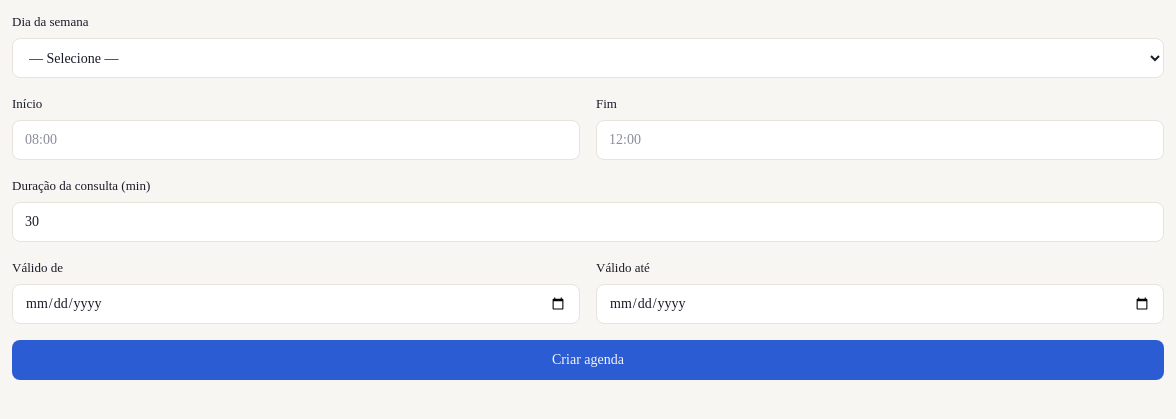
ScheduleForm — create mode › shows validation error when endTime is before startTime
Select "Segunda-feira" in the dropdown with test id "schedule-form-day" at (588, 58), box [12,38,1164,78]
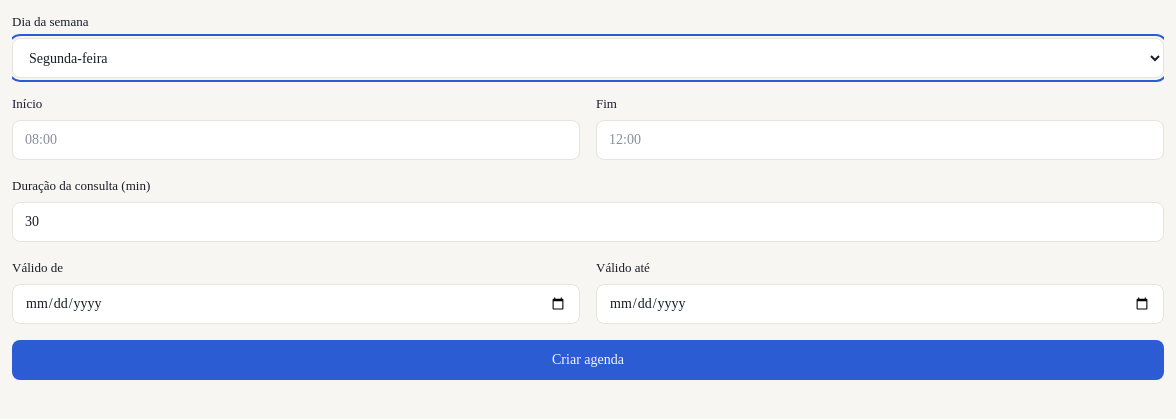
Type "12:00" into the field with test id "schedule-form-start-time" at (296, 140), box [12,120,580,160]
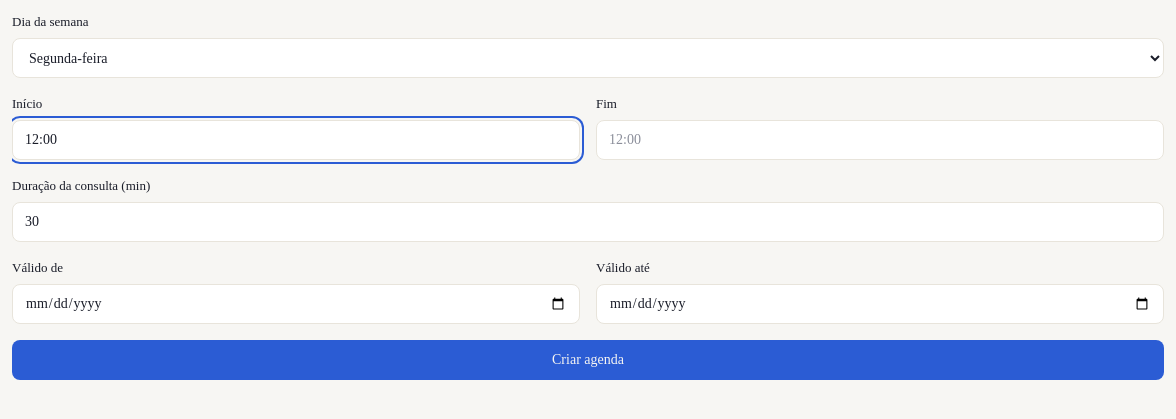
Type "08:00" into the field with test id "schedule-form-end-time" at (880, 140), box [596,120,1164,160]
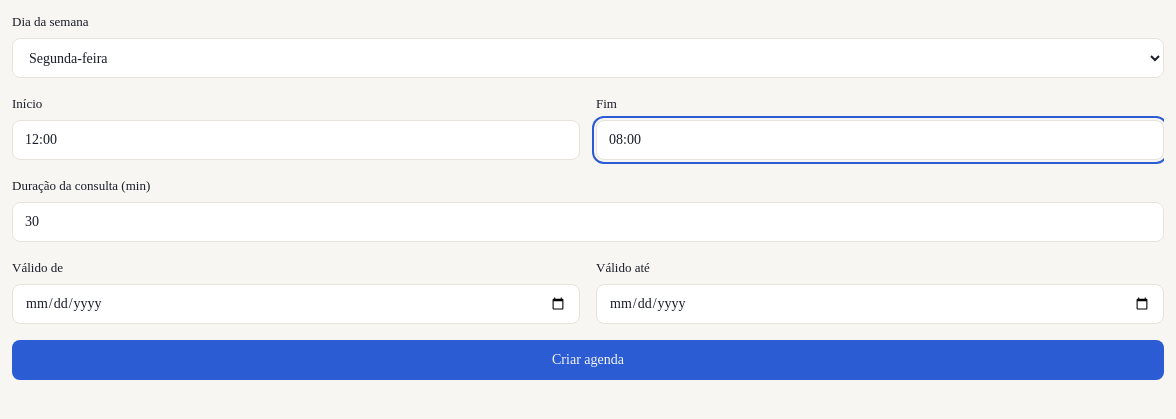
Click the button with test id "schedule-form-submit" at (588, 360), box [12,340,1164,380]
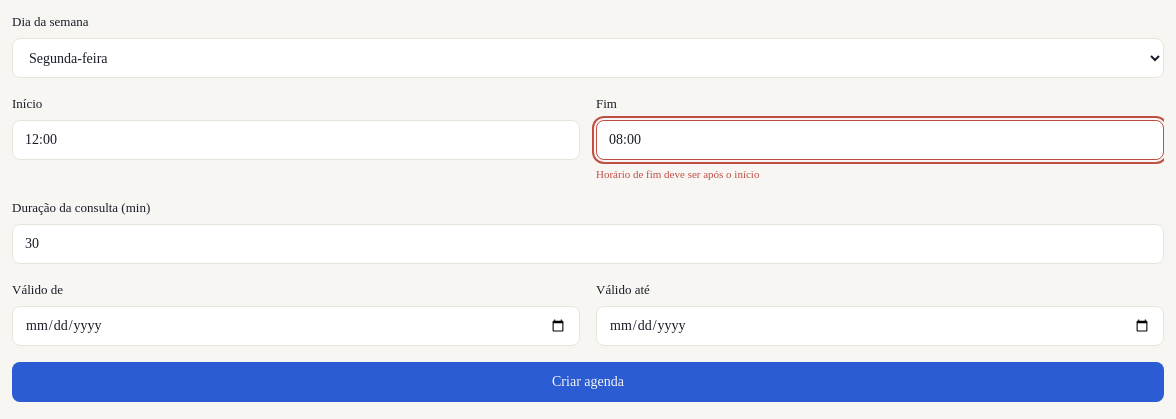
Expected: the text "Horário de fim deve ser após o início" is shown, [596,168,759,180]
